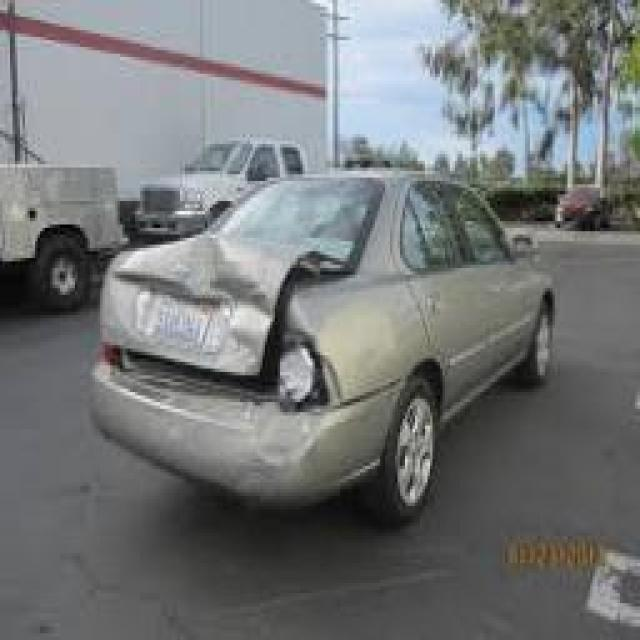replaceable: (145, 218, 341, 482)
